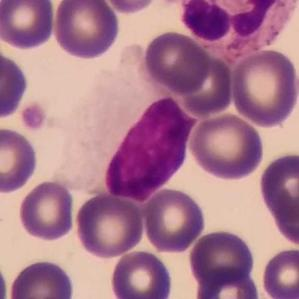Lymphocyte: (57, 49, 198, 203)
Neutrophil: (171, 0, 298, 66)
Platelets: (19, 102, 49, 132)
RBC: (228, 47, 299, 129), (187, 111, 266, 182), (73, 190, 146, 260), (140, 29, 211, 96), (141, 186, 208, 254), (50, 0, 122, 61), (185, 227, 258, 287), (172, 51, 236, 118), (16, 178, 77, 243), (256, 148, 299, 237), (108, 248, 175, 298), (0, 0, 58, 51), (0, 124, 41, 196), (7, 257, 76, 299), (191, 266, 263, 299), (0, 46, 31, 121), (268, 177, 299, 250), (259, 245, 299, 299), (97, 0, 160, 16)
